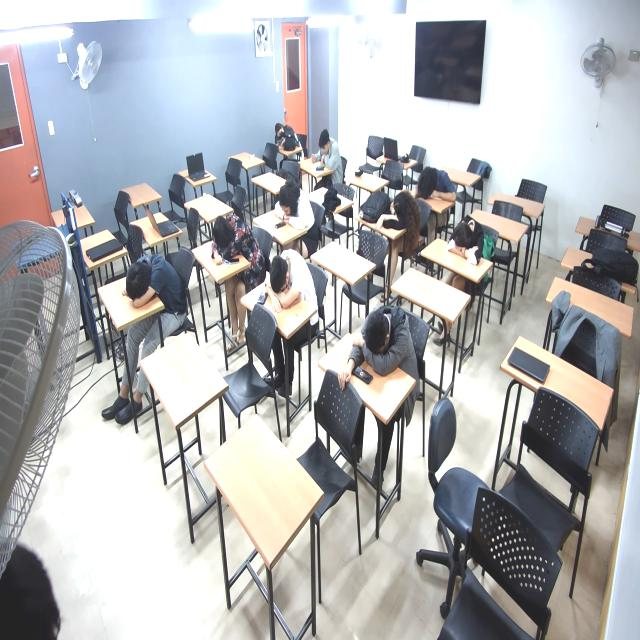sleep: (342, 309, 421, 379), (263, 252, 326, 309), (206, 214, 267, 268), (121, 253, 186, 302), (270, 181, 323, 231), (372, 197, 427, 233), (446, 219, 486, 267), (414, 168, 460, 205), (274, 120, 300, 154)
